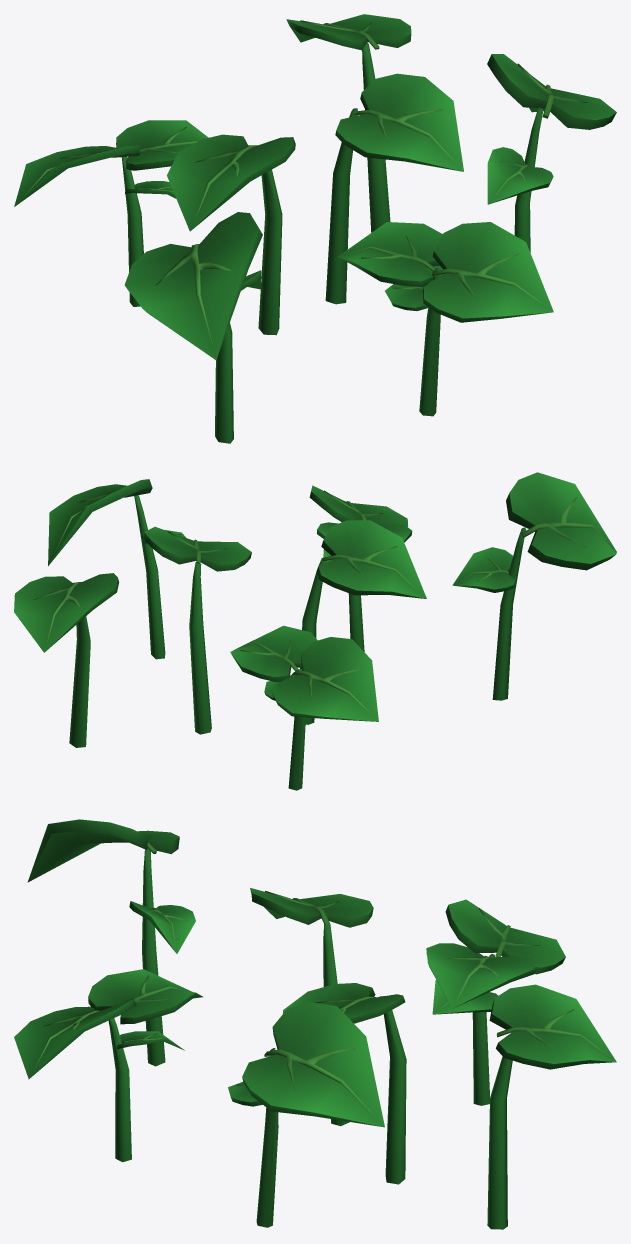
Rendered from SM_Plant_Pumpkin_Lv1.fbx.
3 views of the same model, one above another, from view 1: azimuth 30°, elevation 25°; view 2: azimuth 150°, elevation 25°; view 3: azimuth 270°, elevation 25° (orthographic). The views are drawn at different scales.
Parts seen in each view (by area): view 1: SM_Plant_Pumpkin_Lv1; view 2: SM_Plant_Pumpkin_Lv1; view 3: SM_Plant_Pumpkin_Lv1.
Boxes of the visible parts, x1,y1,x2,y2 form: SM_Plant_Pumpkin_Lv1: (14,14,616,443); SM_Plant_Pumpkin_Lv1: (14,472,616,790); SM_Plant_Pumpkin_Lv1: (14,819,616,1229).
Size of the model in its own units: 61.93 by 26.34 by 57.97.
